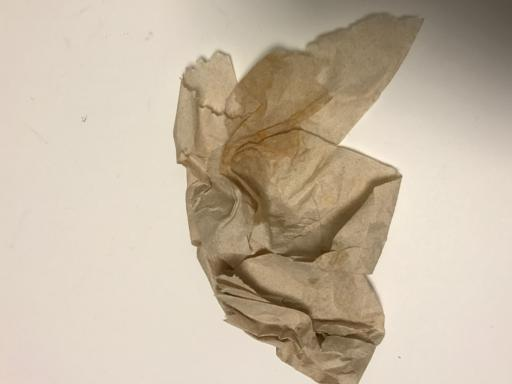trash: (171, 11, 414, 380)
